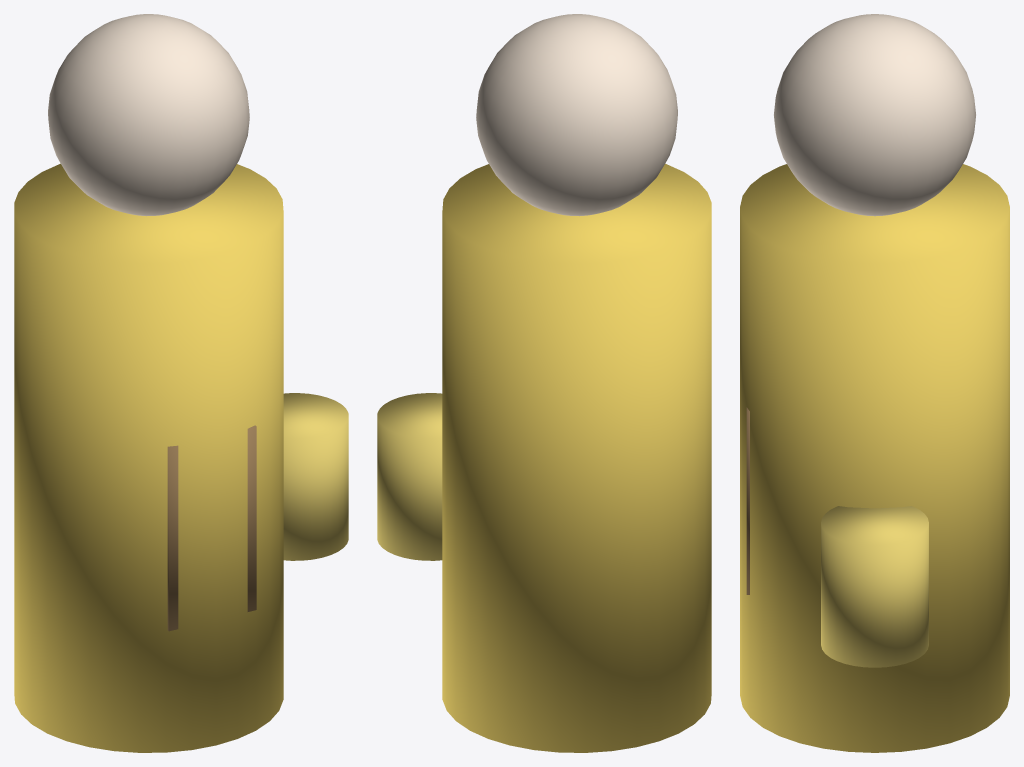
The model's file is meadmaker.glb.
3 views of the same model, side by side, from view 1: azimuth 30°, elevation 25°; view 2: azimuth 150°, elevation 25°; view 3: azimuth 270°, elevation 25° (orthographic).
Visible parts, largest first — view 1: Body, Head, Barrel, Apron; view 2: Body, Head, Barrel; view 3: Body, Head, Barrel, Apron.
Boxes of the visible parts, bbox=[...] form: Body: bbox=[14, 163, 283, 752]; Head: bbox=[48, 14, 249, 216]; Barrel: bbox=[283, 393, 348, 560]; Apron: bbox=[167, 425, 256, 631]; Body: bbox=[442, 163, 711, 752]; Head: bbox=[476, 14, 677, 216]; Barrel: bbox=[377, 393, 442, 560]; Body: bbox=[740, 164, 1009, 752]; Head: bbox=[774, 14, 975, 216]; Barrel: bbox=[821, 506, 928, 667]; Apron: bbox=[746, 407, 749, 594].
Size of the model in its own units: 0.53 by 1.1 by 0.4.
